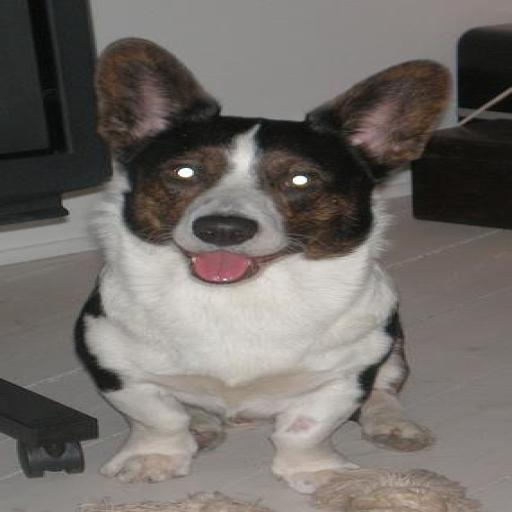dog_face: (77, 43, 440, 285)
